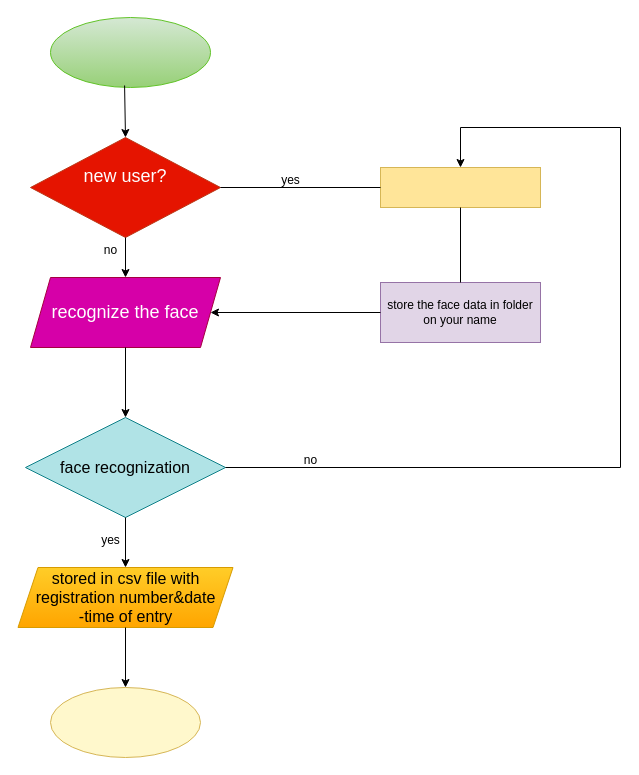
Some shapes in this 639 by 775 pixel diagram are drawn without their labels. The shapes that lost their labels are listed below. From the top down, each one's centre as x and y in pixels, then its label:
At (130,52): "start".
At (460,187): "give your photograph".
At (125,722): "end".
